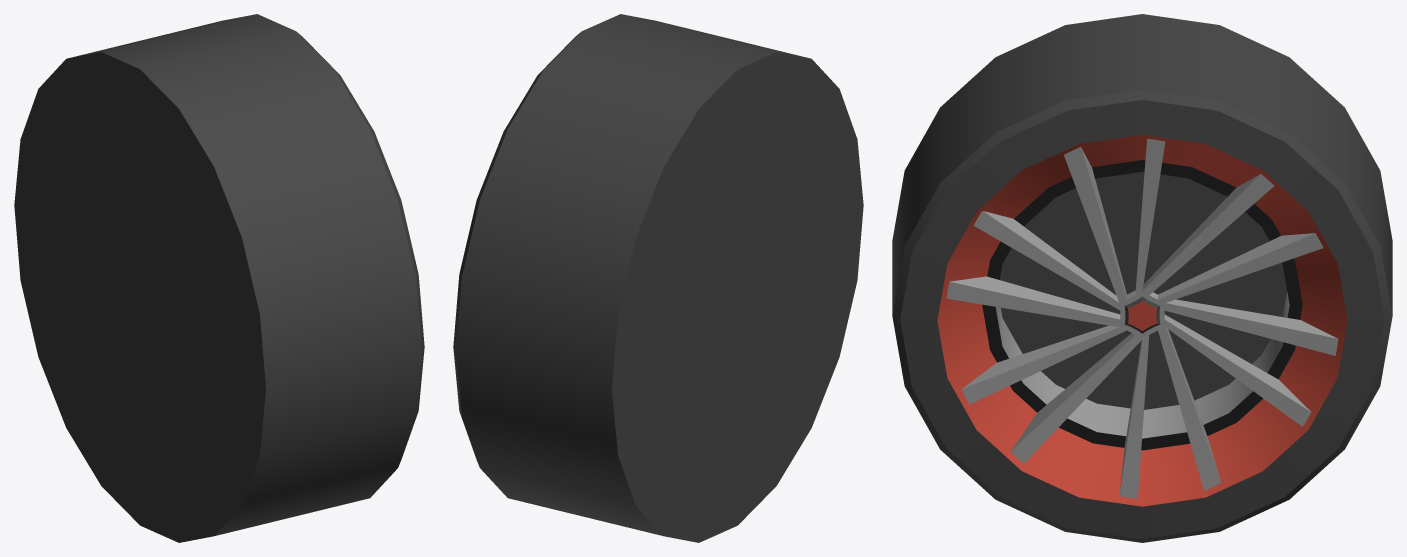
Rendered from WheelMod_10.fbx.
3 renders of one model, left to right at view 1: azimuth 30°, elevation 25°; view 2: azimuth 150°, elevation 25°; view 3: azimuth 270°, elevation 25°, orthographic.
Parts seen in each view (by area): view 1: FrontLeftWheel.001; view 2: FrontLeftWheel.001; view 3: FrontLeftWheel.001.
Part boxes in pixels (box(x1,y1,x2,y2)): FrontLeftWheel.001: box(14, 14, 424, 542); FrontLeftWheel.001: box(453, 14, 863, 542); FrontLeftWheel.001: box(892, 14, 1392, 542).
Bounding box in the file's own units: 25.95 × 68.48 × 68.48.
